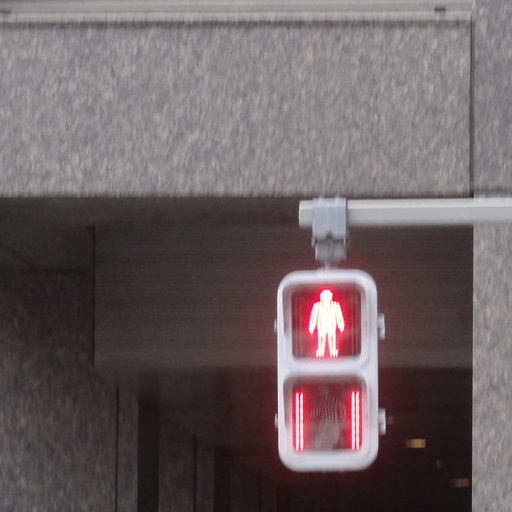Pedestrian_Signal_Red: (272, 263, 378, 472)
